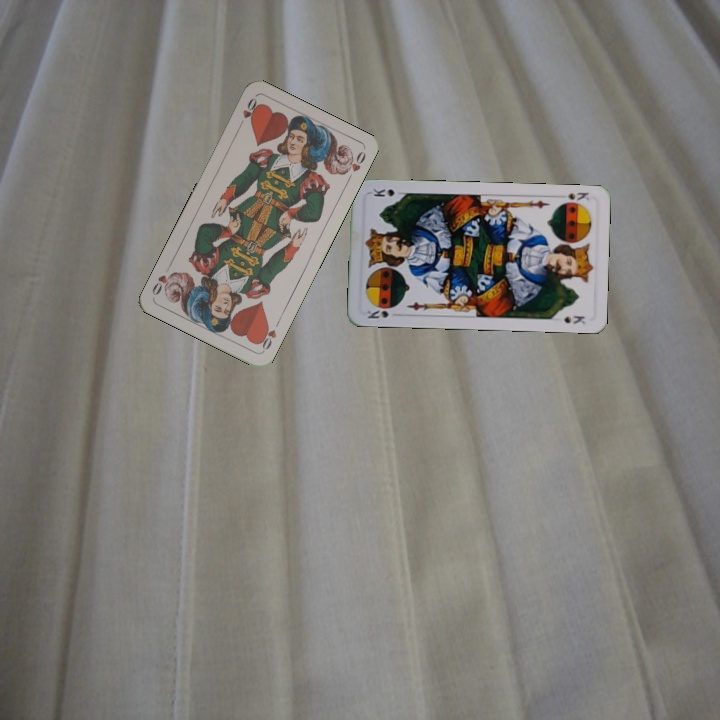HO: (254, 316, 283, 354), (235, 94, 261, 131)
SK: (556, 188, 592, 208), (363, 304, 391, 321)
